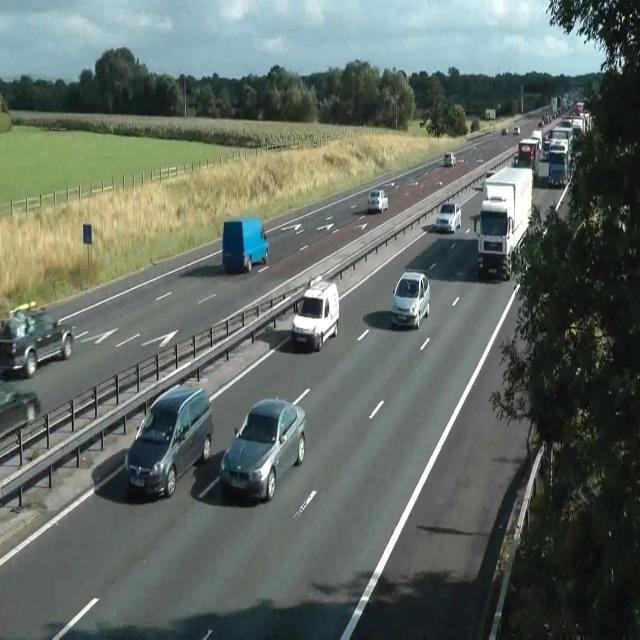bus: (219, 397, 306, 502), (0, 381, 39, 441), (434, 202, 462, 234), (367, 190, 388, 213), (518, 139, 537, 159), (541, 138, 551, 161), (444, 151, 456, 167), (513, 126, 519, 134), (502, 127, 508, 134), (538, 120, 544, 127), (419, 120, 424, 128)
car: (514, 100, 594, 188)
jeep: (124, 382, 213, 500), (0, 303, 73, 379), (291, 277, 339, 351), (477, 198, 513, 280), (222, 216, 268, 274), (390, 269, 430, 329)
minibus: (477, 165, 532, 280), (548, 126, 584, 188), (516, 138, 540, 180), (485, 108, 495, 119)
